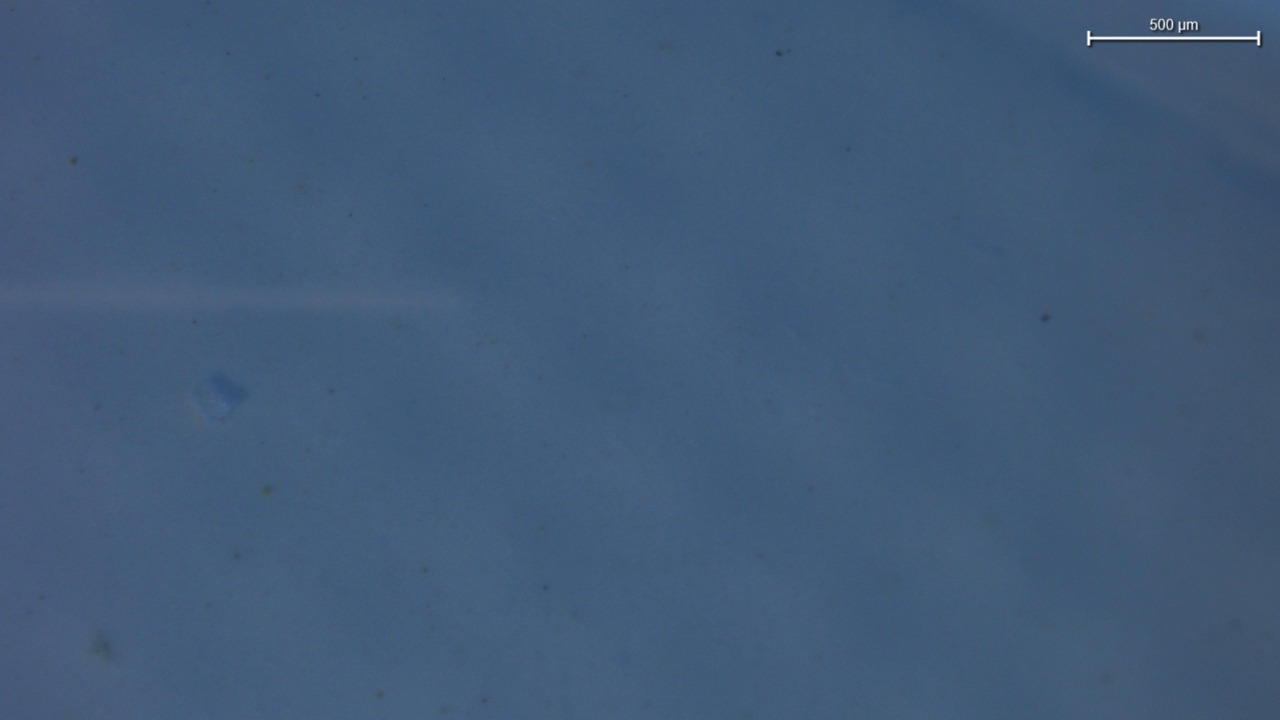microplastic_fragment: (191, 370, 246, 423)
